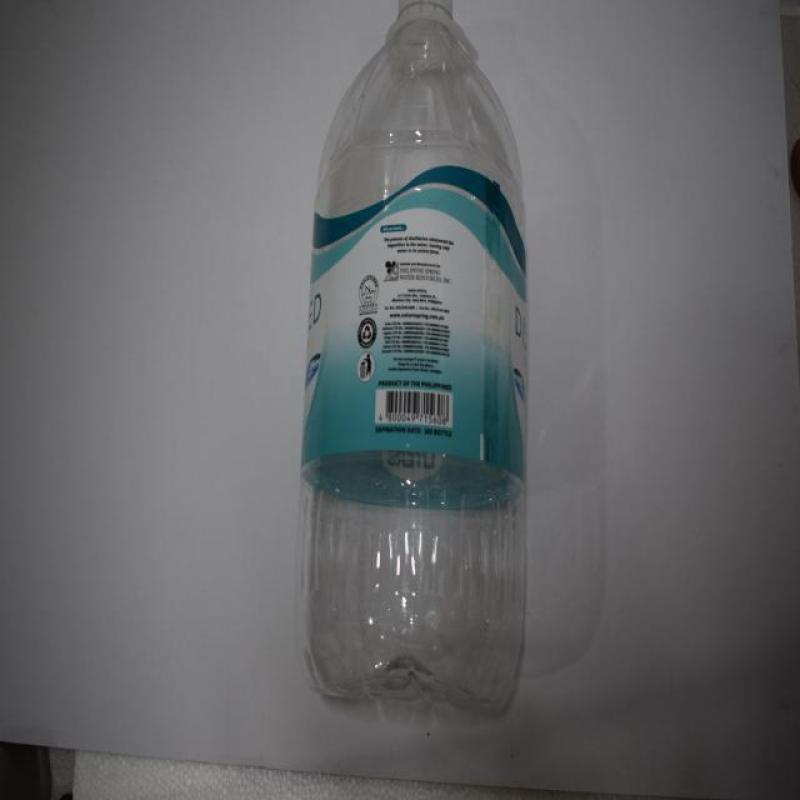botella: (302, 0, 532, 721)
